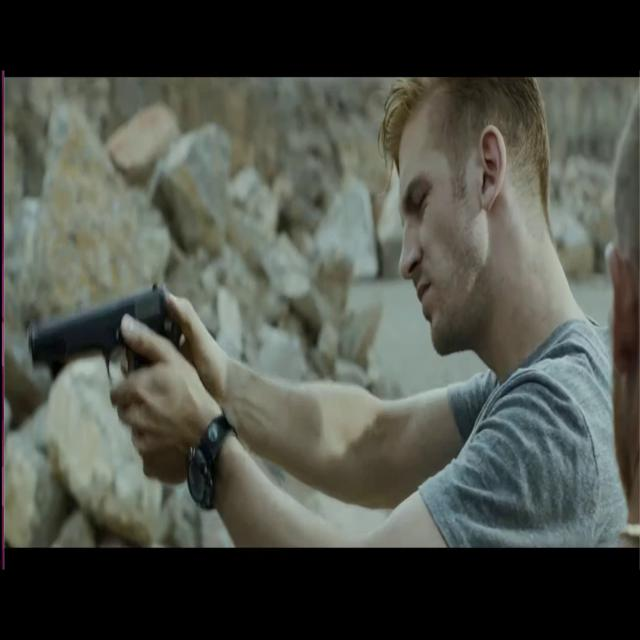weapons: (27, 271, 188, 435)
